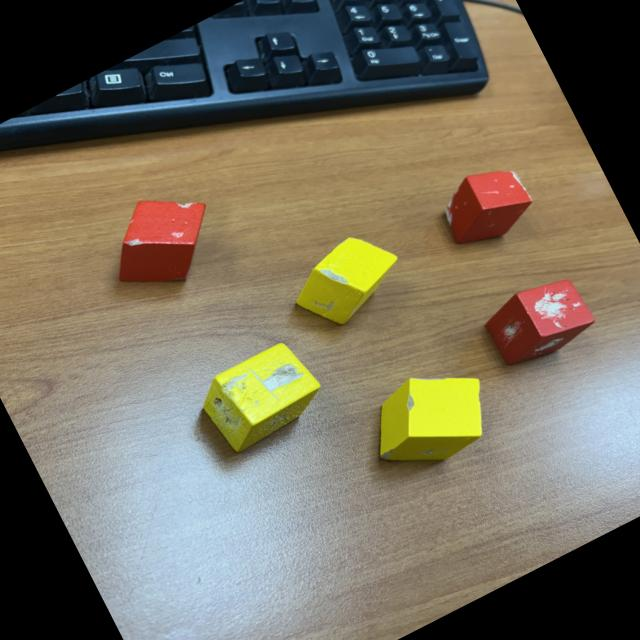broken: (355, 350, 507, 488), (194, 332, 336, 461), (94, 175, 232, 306), (280, 220, 418, 344), (478, 264, 600, 374), (432, 155, 542, 258)
